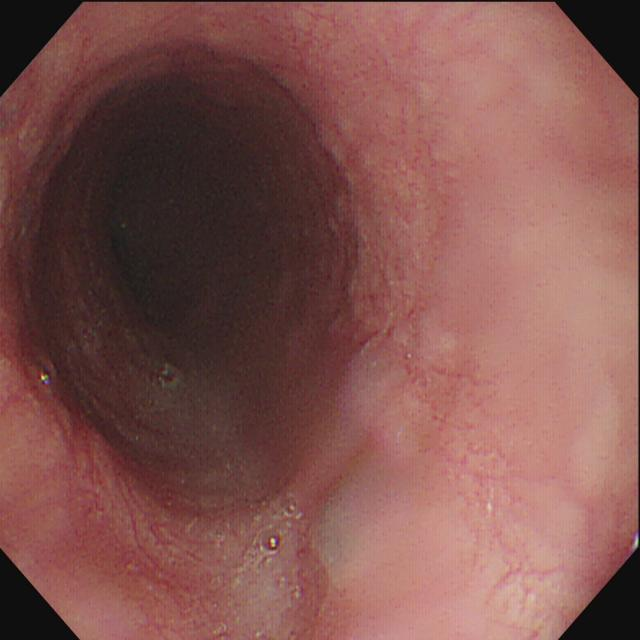A: (3, 355, 143, 539), (320, 142, 396, 352)
E: (77, 141, 280, 362)
T: (218, 499, 303, 622)
